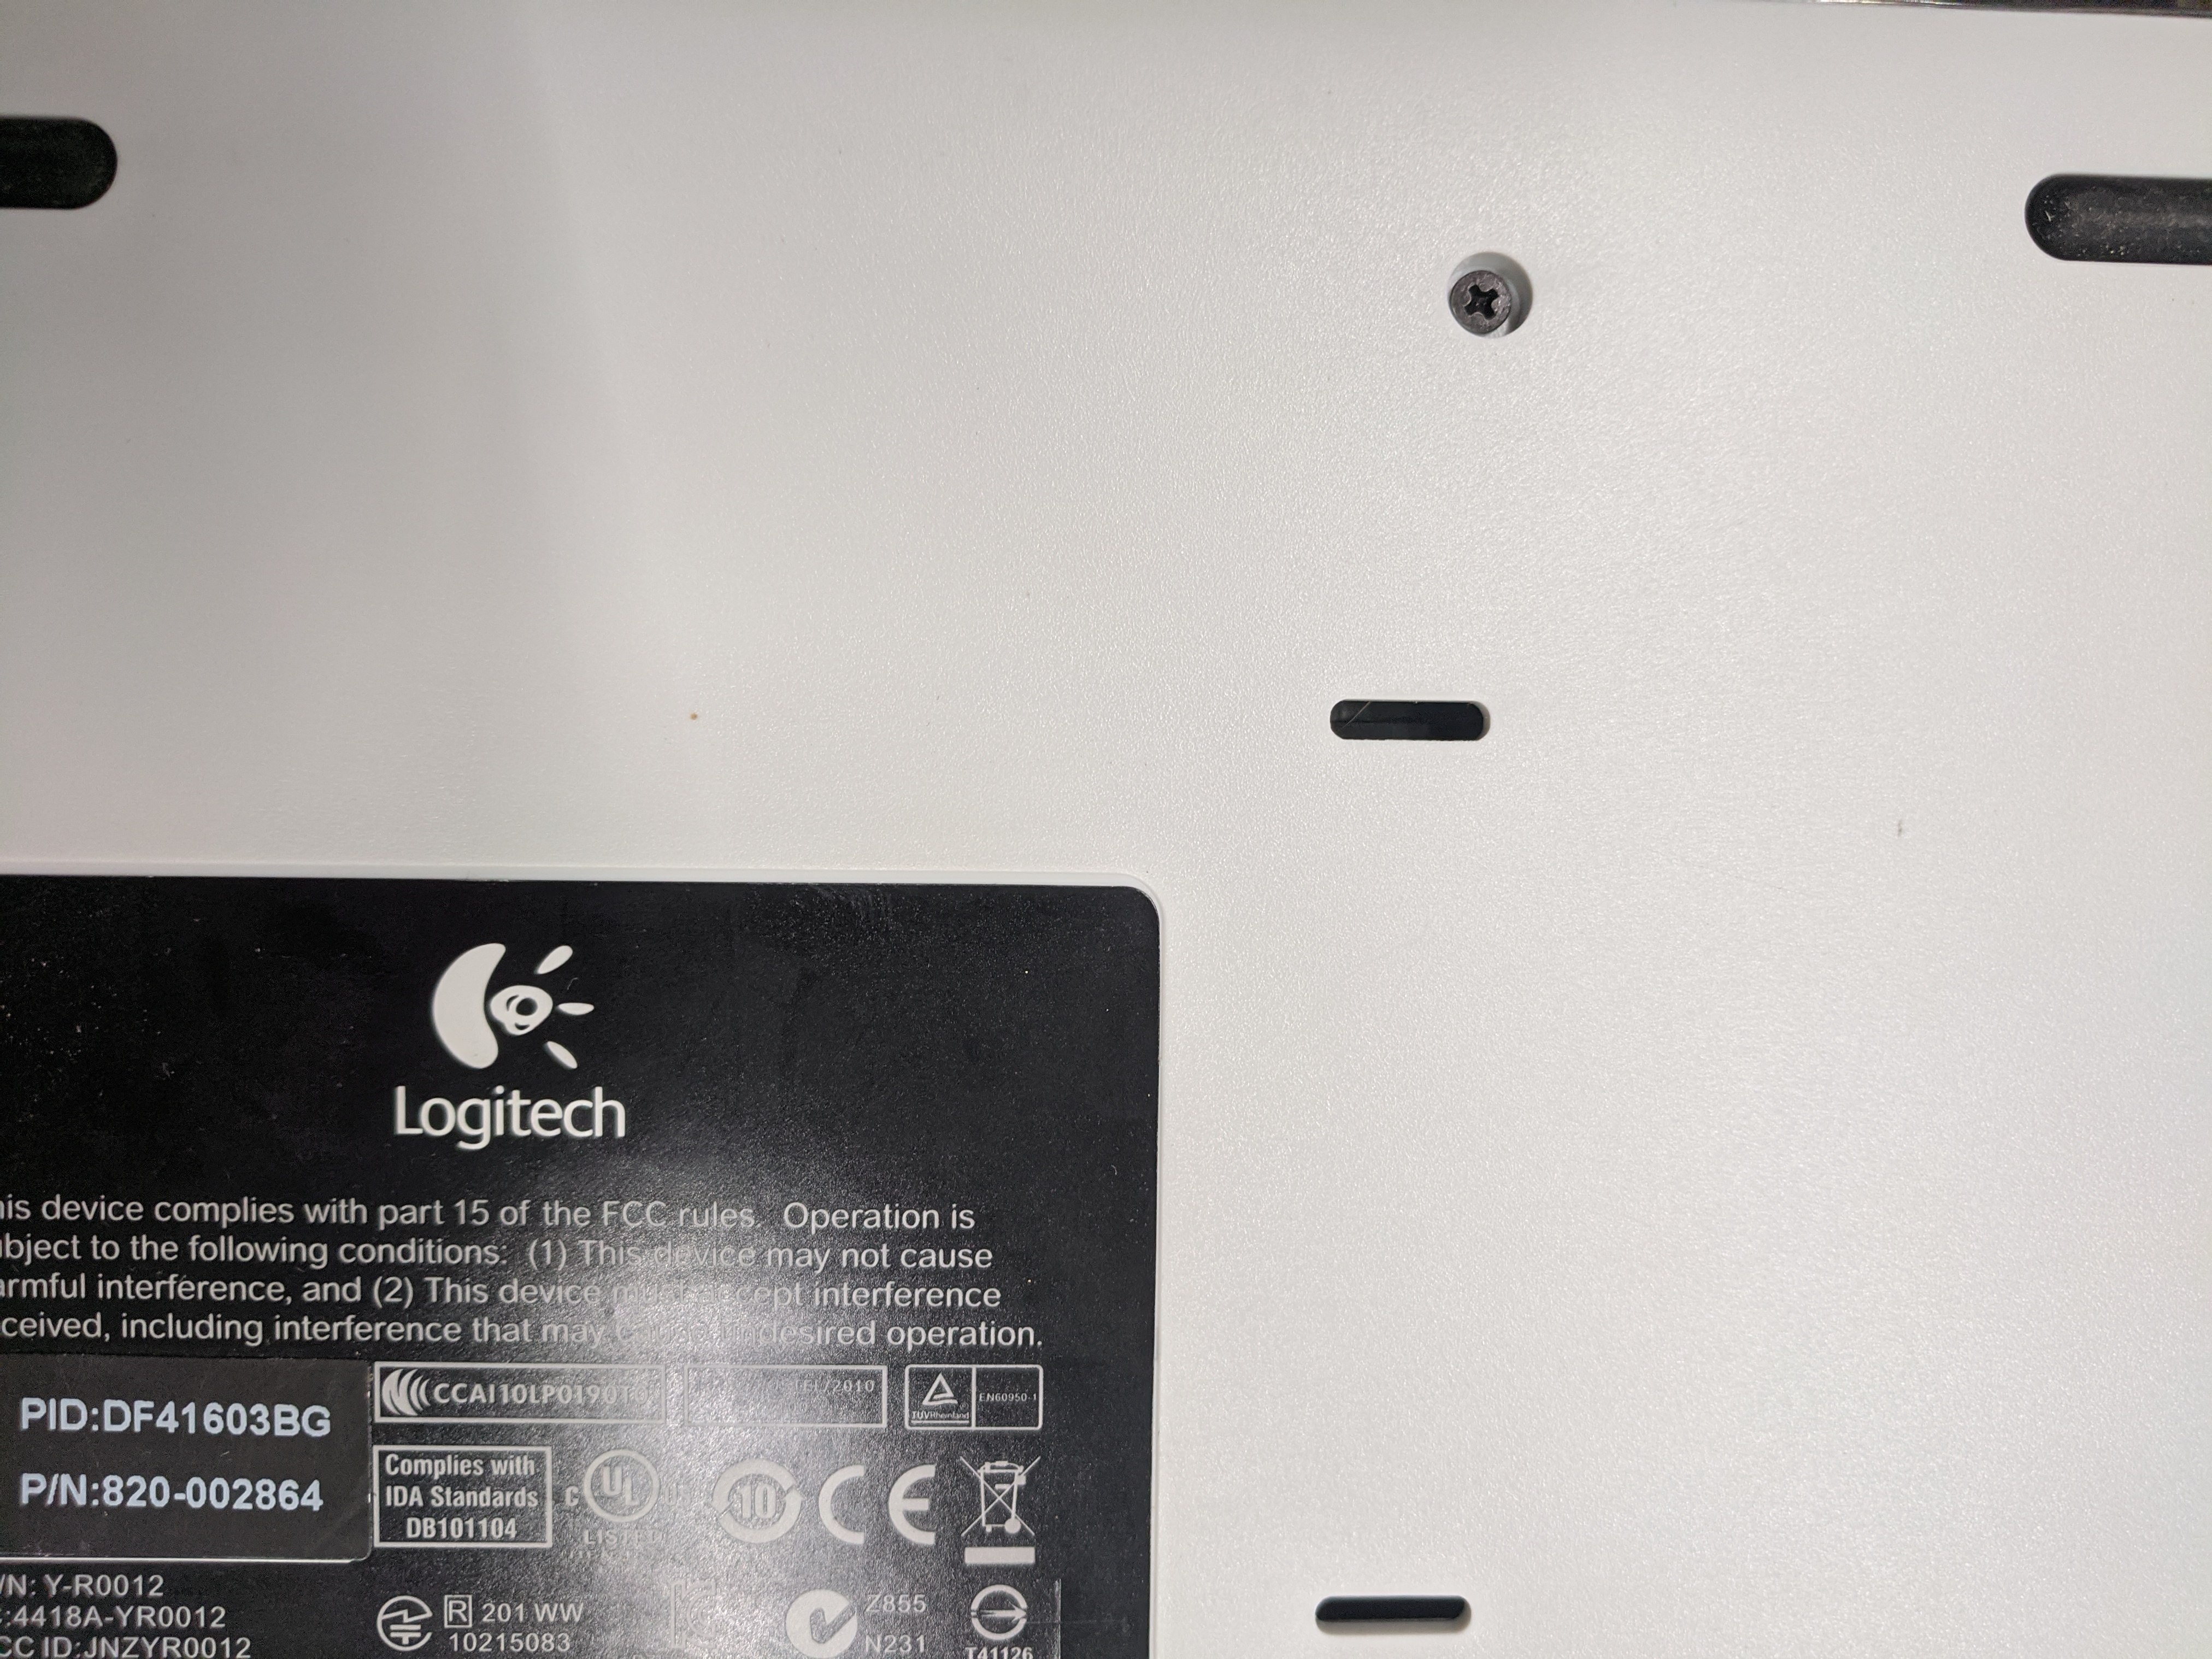cross_recessed_screw: (1435, 253, 1524, 336)
